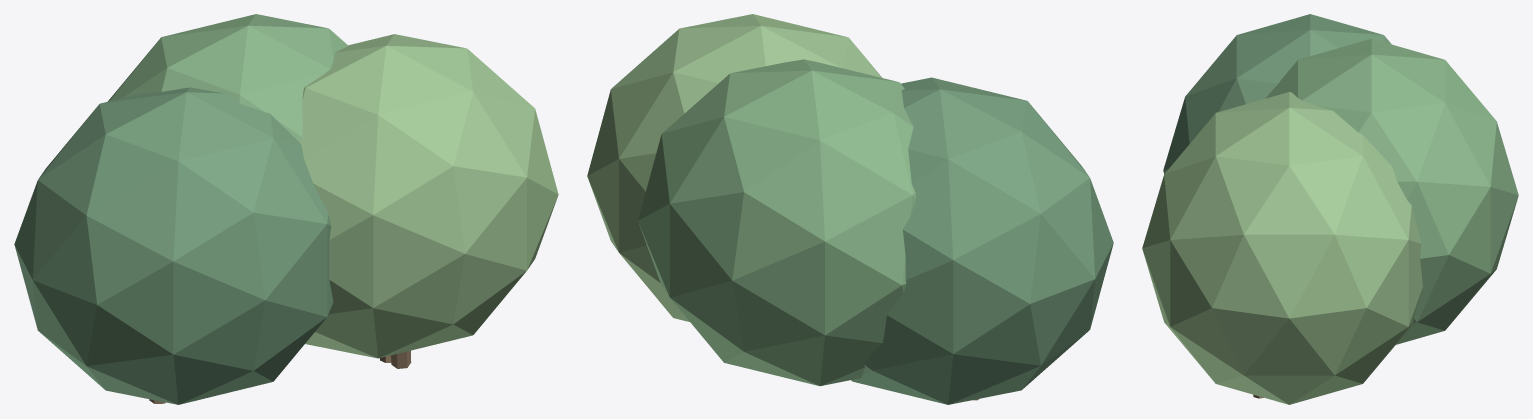
Rendered from bush-a.glb.
The picture shows the model from 3 angles, left to right: view 1: azimuth 30°, elevation 25°; view 2: azimuth 150°, elevation 25°; view 3: azimuth 270°, elevation 25°; orthographic projection. The views are drawn at different scales.
Visible parts, largest first — view 1: Bush_1, Bush_3, Bush_2; view 2: Bush_2, Bush_1, Bush_3; view 3: Bush_3, Bush_2, Bush_1.
Part boxes in pixels (x1,y1,x2,y2): Bush_1: (14,87,333,404); Bush_3: (299,34,558,358); Bush_2: (108,14,348,141); Bush_2: (638,59,915,386); Bush_1: (851,77,1113,404); Bush_3: (587,14,881,321); Bush_3: (1142,92,1422,404); Bush_2: (1265,38,1518,344); Bush_1: (1163,14,1391,173).
Bounding box in the file's own units: 2 × 1.24 × 1.41.
